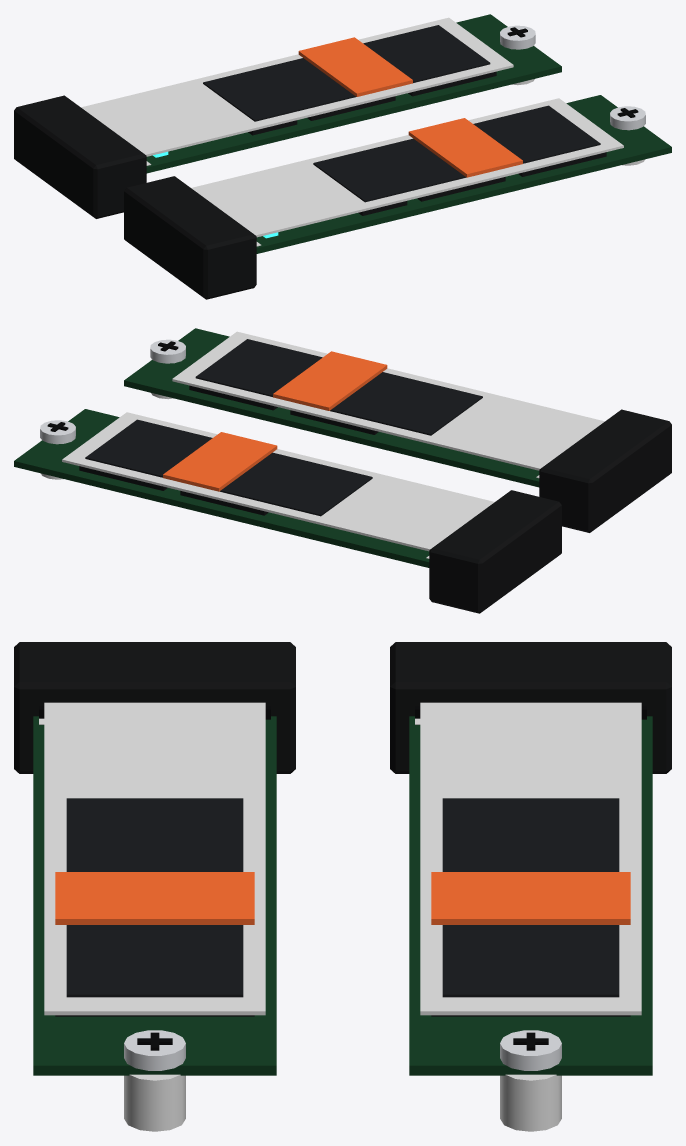
Rendered from hwm_sto_ssd_2tb.glb.
The picture shows the model from 3 angles, top to bottom: view 1: azimuth 30°, elevation 25°; view 2: azimuth 150°, elevation 25°; view 3: azimuth 270°, elevation 25°; orthographic projection. The views are drawn at different scales.
Parts seen in each view (by area): view 1: SSD_0, SSD_1, Slots, Screw_0, Screw_1; view 2: SSD_1, SSD_0, Slots, Screw_1, Screw_0; view 3: SSD_0, SSD_1, Slots, Screw_0, Screw_1.
Boxes of the visible parts, left/top/right/bottom form: SSD_0: left=81, top=14, right=561, bottom=173; SSD_1: left=191, top=95, right=671, bottom=253; Slots: left=14, top=45, right=645, bottom=299; Screw_0: left=500, top=25, right=535, bottom=49; Screw_1: left=610, top=106, right=645, bottom=130; SSD_1: left=124, top=328, right=604, bottom=487; SSD_0: left=14, top=409, right=494, bottom=567; Slots: left=40, top=359, right=671, bottom=613; Screw_1: left=150, top=339, right=185, bottom=363; Screw_0: left=40, top=420, right=75, bottom=444; SSD_0: left=409, top=702, right=652, bottom=1075; SSD_1: left=33, top=702, right=276, bottom=1075; Slots: left=14, top=642, right=671, bottom=1131; Screw_0: left=500, top=1030, right=561, bottom=1070; Screw_1: left=124, top=1030, right=185, bottom=1070.
Bounding box in the file's own units: 0.0855 × 0.0092 × 0.0595.
